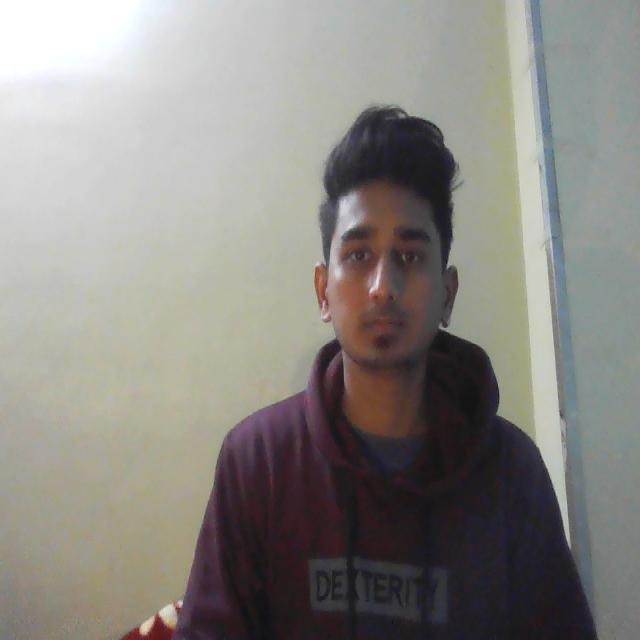real: (319, 126, 459, 390)
